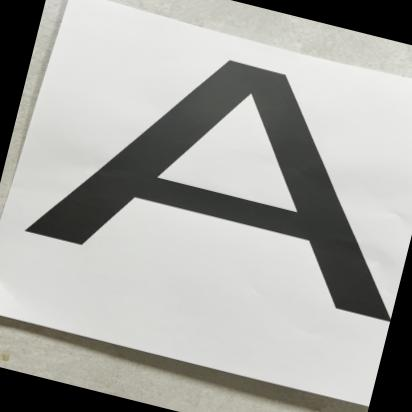seat: (8, 0, 412, 330)
